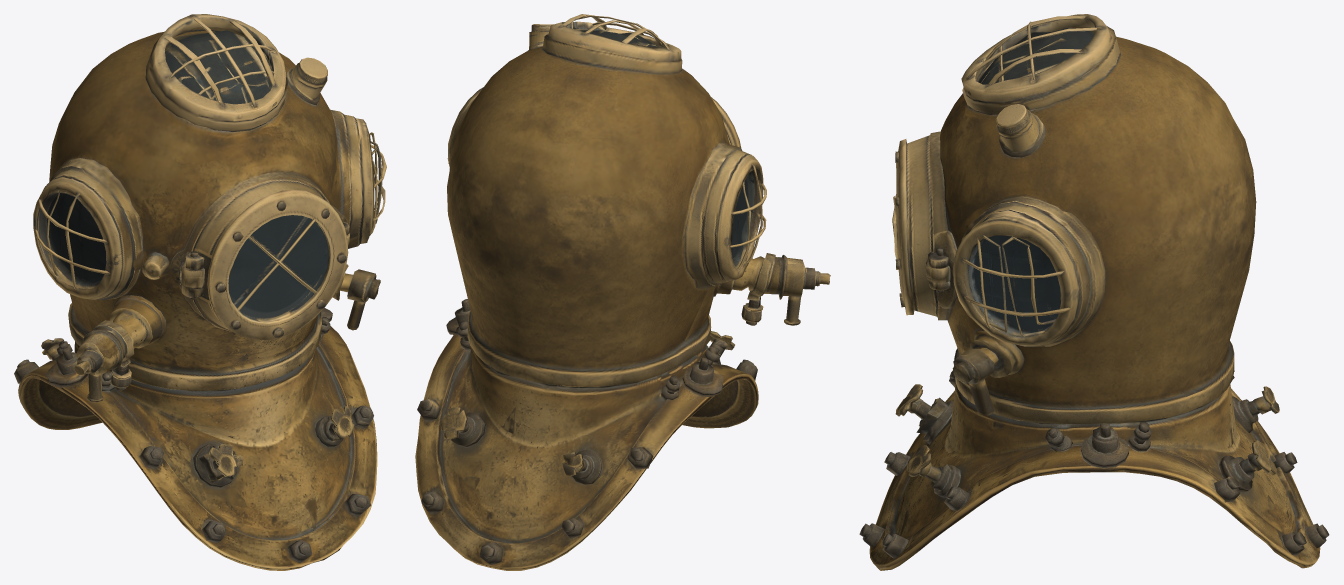
Rendered from diving-helmet.glb.
3 renders of one model, left to right at view 1: azimuth 30°, elevation 25°; view 2: azimuth 150°, elevation 25°; view 3: azimuth 270°, elevation 25°, orthographic. The views are drawn at different scales.
Bounding box in the file's own units: 0.7144 × 0.9512 × 0.77.
1 material, 1 textured.
